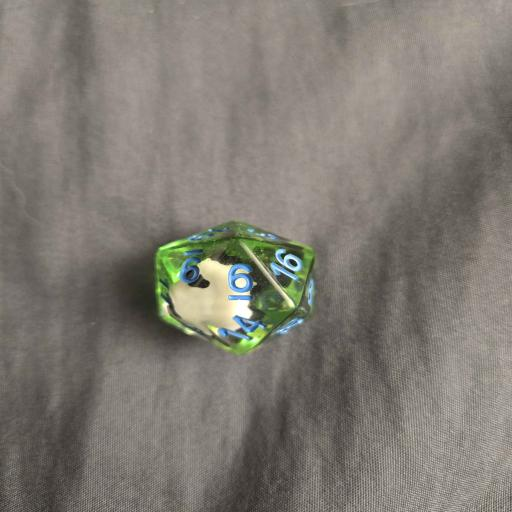twenty sided dice: (154, 220, 317, 356)
